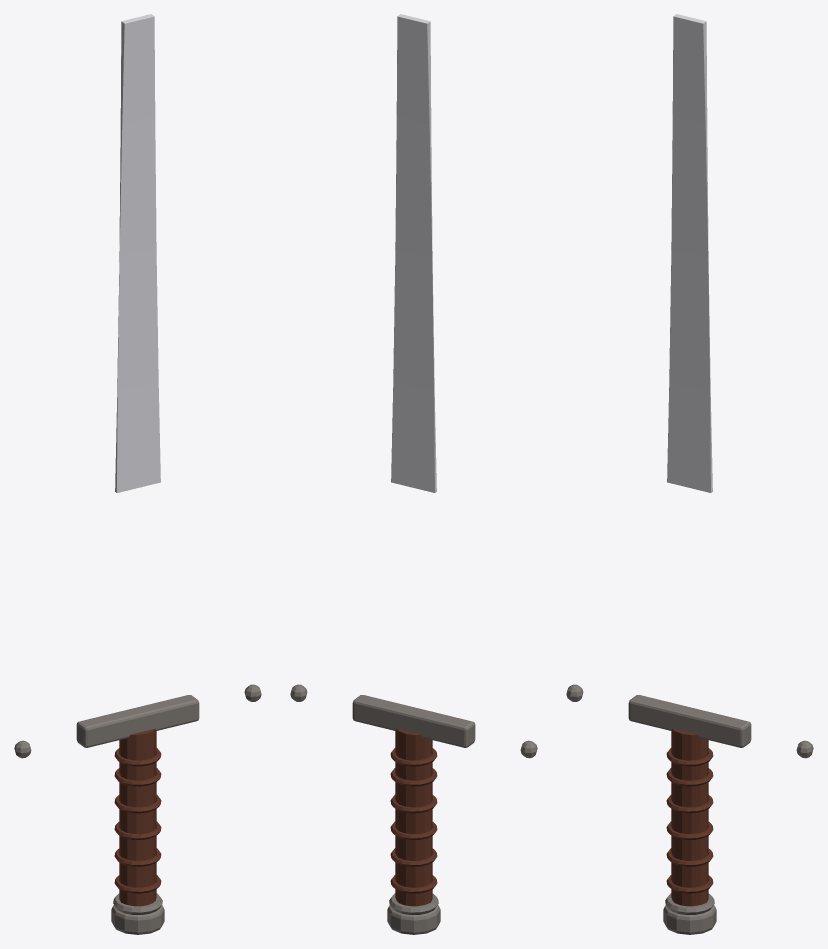
Rendered from broadsword.glb.
3 views of the same model, side by side, from view 1: azimuth 30°, elevation 25°; view 2: azimuth 150°, elevation 25°; view 3: azimuth 330°, elevation 25° (orthographic).
Parts seen in each view (by area): view 1: broadsword; view 2: broadsword; view 3: broadsword.
Boxes of the visible parts, x1,y1,x2,y2 form: broadsword: [14, 14, 261, 934]; broadsword: [290, 14, 537, 934]; broadsword: [566, 14, 813, 934].
Bounding box in the file's own units: 0.192 × 0.6775 × 0.036.
3 materials, 1 textured.
